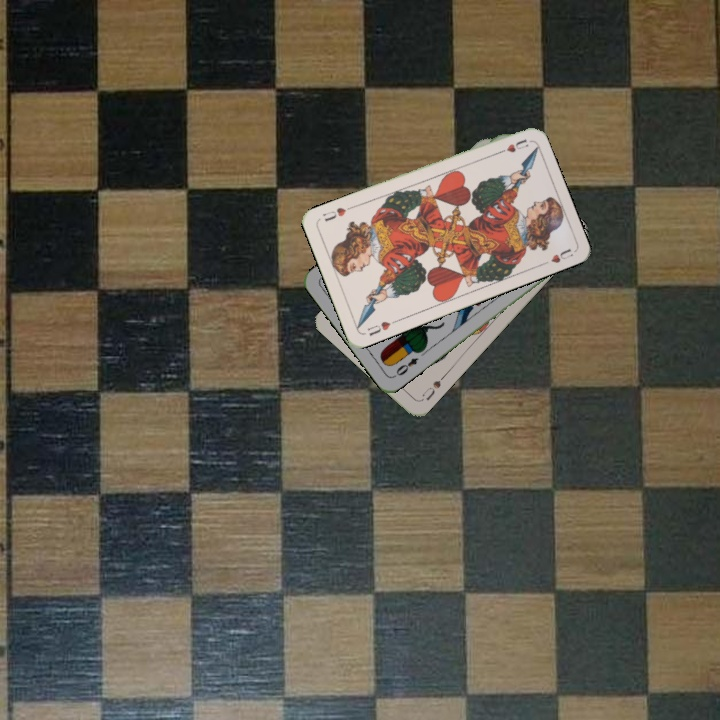EO: (390, 353, 421, 380)
HU: (492, 135, 531, 157), (363, 316, 399, 339)
SU: (417, 370, 448, 404)
